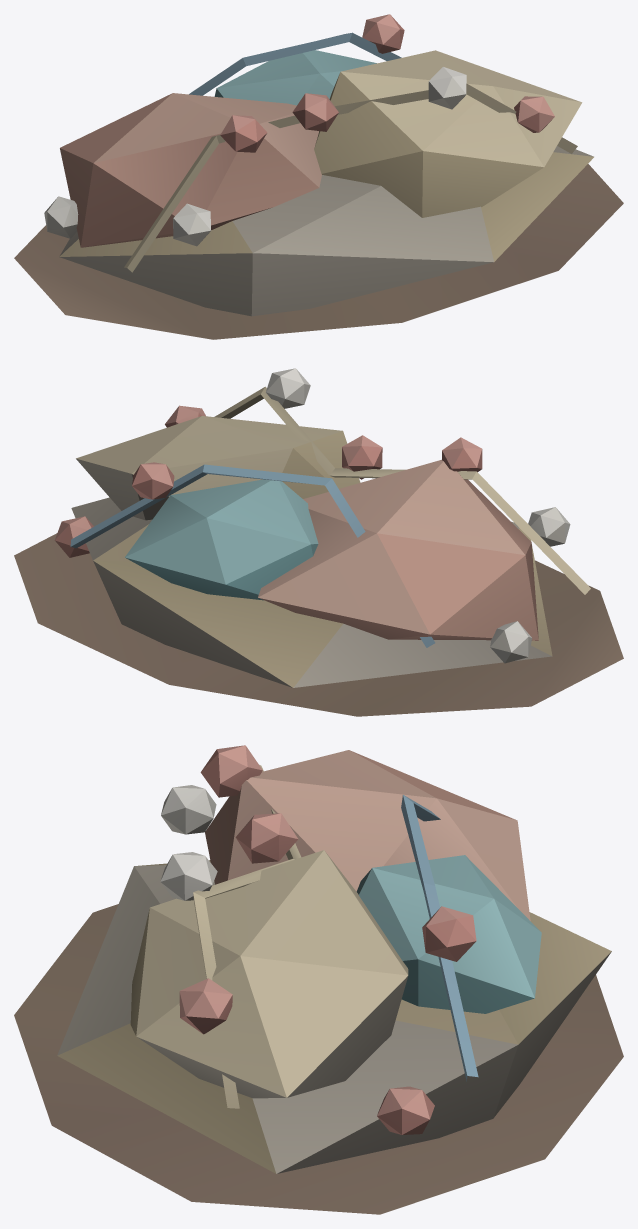
The model's file is nets.lod1.glb.
3 views of the same model, one above another, from view 1: azimuth 30°, elevation 25°; view 2: azimuth 150°, elevation 25°; view 3: azimuth 270°, elevation 25° (orthographic). The views are drawn at different scales.
Bounding box in the file's own units: 1.95 × 0.6148 × 1.4.
